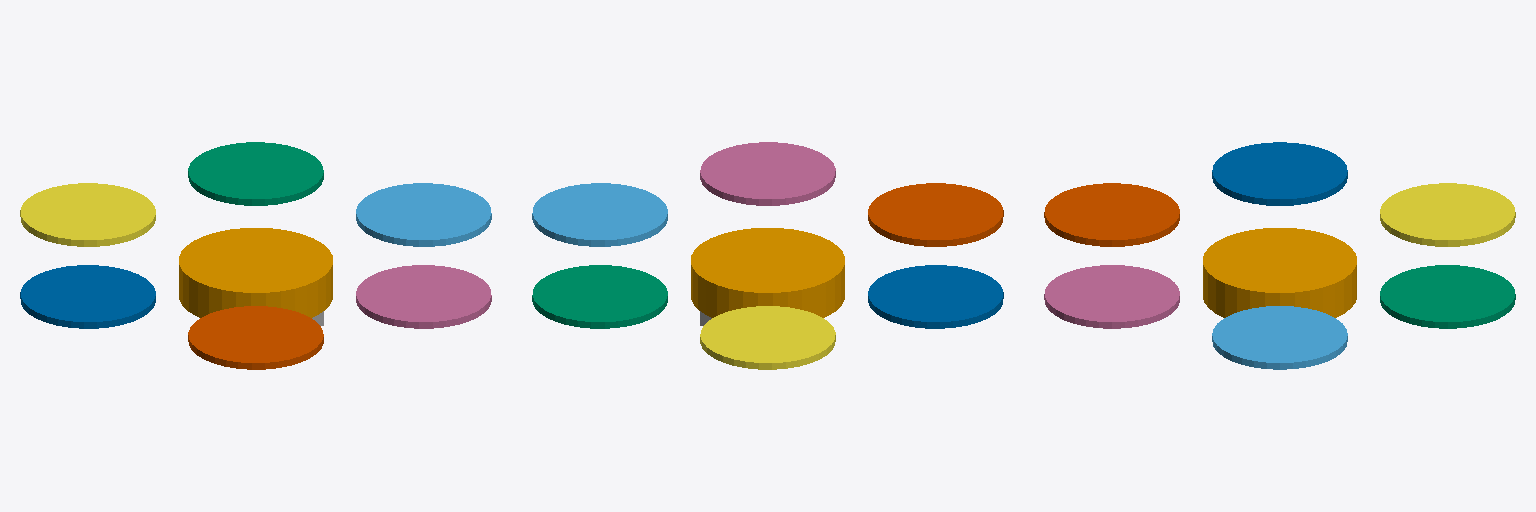
URDF robot description (autonomous_hexacopter_uav):
<?xml version="1.0"?>
<robot name="autonomous_hexacopter_uav">
  <link name="airframe_hub">
    <inertial>
      <origin xyz="0 0 0" rpy="0 0 0"/>
      <mass value="3.8"/>
      <inertia ixx="0.065" ixy="0" ixz="0" iyy="0.065" iyz="0" izz="0.110"/>
    </inertial>
    <visual><geometry><cylinder radius="0.16" length="0.08"/></geometry></visual>
    <collision><geometry><cylinder radius="0.16" length="0.08"/></geometry></collision>
  </link>

  <link name="rotor_1">
    <inertial><mass value="0.18"/><inertia ixx="0.0008" ixy="0" ixz="0" iyy="0.0008" iyz="0" izz="0.0014"/></inertial>
    <visual><geometry><cylinder radius="0.14" length="0.015"/></geometry></visual>
    <collision><geometry><cylinder radius="0.14" length="0.015"/></geometry></collision>
  </link>

  <link name="rotor_2">
    <inertial><mass value="0.18"/><inertia ixx="0.0008" ixy="0" ixz="0" iyy="0.0008" iyz="0" izz="0.0014"/></inertial>
    <visual><geometry><cylinder radius="0.14" length="0.015"/></geometry></visual>
    <collision><geometry><cylinder radius="0.14" length="0.015"/></geometry></collision>
  </link>

  <link name="rotor_3">
    <inertial><mass value="0.18"/><inertia ixx="0.0008" ixy="0" ixz="0" iyy="0.0008" iyz="0" izz="0.0014"/></inertial>
    <visual><geometry><cylinder radius="0.14" length="0.015"/></geometry></visual>
    <collision><geometry><cylinder radius="0.14" length="0.015"/></geometry></collision>
  </link>

  <link name="rotor_4">
    <inertial><mass value="0.18"/><inertia ixx="0.0008" ixy="0" ixz="0" iyy="0.0008" iyz="0" izz="0.0014"/></inertial>
    <visual><geometry><cylinder radius="0.14" length="0.015"/></geometry></visual>
    <collision><geometry><cylinder radius="0.14" length="0.015"/></geometry></collision>
  </link>

  <link name="rotor_5">
    <inertial><mass value="0.18"/><inertia ixx="0.0008" ixy="0" ixz="0" iyy="0.0008" iyz="0" izz="0.0014"/></inertial>
    <visual><geometry><cylinder radius="0.14" length="0.015"/></geometry></visual>
    <collision><geometry><cylinder radius="0.14" length="0.015"/></geometry></collision>
  </link>

  <link name="rotor_6">
    <inertial><mass value="0.18"/><inertia ixx="0.0008" ixy="0" ixz="0" iyy="0.0008" iyz="0" izz="0.0014"/></inertial>
    <visual><geometry><cylinder radius="0.14" length="0.015"/></geometry></visual>
    <collision><geometry><cylinder radius="0.14" length="0.015"/></geometry></collision>
  </link>

  <link name="camera_gimbal">
    <inertial><mass value="0.45"/><inertia ixx="0.001" ixy="0" ixz="0" iyy="0.001" iyz="0" izz="0.001"/></inertial>
    <visual><geometry><box size="0.08 0.08 0.07"/></geometry></visual>
    <collision><geometry><box size="0.08 0.08 0.07"/></geometry></collision>
  </link>

  <joint name="rotor_1_joint" type="continuous">
    <parent link="airframe_hub"/><child link="rotor_1"/>
    <origin xyz="0.40 0.0 0.05" rpy="0 0 0"/><axis xyz="0 0 1"/>
  </joint>
  <joint name="rotor_2_joint" type="continuous">
    <parent link="airframe_hub"/><child link="rotor_2"/>
    <origin xyz="0.20 0.3464 0.05" rpy="0 0 0"/><axis xyz="0 0 1"/>
  </joint>
  <joint name="rotor_3_joint" type="continuous">
    <parent link="airframe_hub"/><child link="rotor_3"/>
    <origin xyz="-0.20 0.3464 0.05" rpy="0 0 0"/><axis xyz="0 0 1"/>
  </joint>
  <joint name="rotor_4_joint" type="continuous">
    <parent link="airframe_hub"/><child link="rotor_4"/>
    <origin xyz="-0.40 0.0 0.05" rpy="0 0 0"/><axis xyz="0 0 1"/>
  </joint>
  <joint name="rotor_5_joint" type="continuous">
    <parent link="airframe_hub"/><child link="rotor_5"/>
    <origin xyz="-0.20 -0.3464 0.05" rpy="0 0 0"/><axis xyz="0 0 1"/>
  </joint>
  <joint name="rotor_6_joint" type="continuous">
    <parent link="airframe_hub"/><child link="rotor_6"/>
    <origin xyz="0.20 -0.3464 0.05" rpy="0 0 0"/><axis xyz="0 0 1"/>
  </joint>
  <joint name="gimbal_pitch_joint" type="revolute">
    <parent link="airframe_hub"/><child link="camera_gimbal"/>
    <origin xyz="0.10 0.0 -0.09" rpy="0 0 0"/><axis xyz="0 1 0"/>
    <limit lower="-1.5708" upper="0.5236" effort="2.0" velocity="3.0"/>
  </joint>
</robot>

--- Render facts (derived) ---
3 views of the same robot in one strip: view 1: azimuth 30°, elevation 25°; view 2: azimuth 150°, elevation 25°; view 3: azimuth 270°, elevation 25° (orthographic).
Model autonomous_hexacopter_uav with 8 links and 7 joints (1 revolute, 6 continuous), rooted at airframe_hub, posed all joints at 0.
Links seen in each view (by area): view 1: airframe_hub, rotor_1, rotor_4, rotor_3, rotor_6, rotor_2, rotor_5; view 2: airframe_hub, rotor_1, rotor_4, rotor_2, rotor_5, rotor_3, rotor_6; view 3: airframe_hub, rotor_1, rotor_4, rotor_2, rotor_3, rotor_5, rotor_6.
Link boxes in pixels (bbox=[...]): airframe_hub: bbox=[179, 228, 332, 317]; rotor_1: bbox=[356, 183, 491, 246]; rotor_4: bbox=[20, 265, 155, 328]; rotor_3: bbox=[20, 183, 155, 246]; rotor_6: bbox=[356, 265, 491, 328]; rotor_2: bbox=[188, 142, 323, 205]; rotor_5: bbox=[188, 306, 323, 369]; airframe_hub: bbox=[691, 228, 844, 317]; rotor_1: bbox=[532, 183, 667, 246]; rotor_4: bbox=[868, 265, 1003, 328]; rotor_2: bbox=[532, 265, 667, 328]; rotor_5: bbox=[868, 183, 1003, 246]; rotor_3: bbox=[700, 306, 835, 369]; rotor_6: bbox=[700, 142, 835, 205]; airframe_hub: bbox=[1203, 228, 1356, 317]; rotor_1: bbox=[1212, 306, 1347, 369]; rotor_4: bbox=[1212, 142, 1347, 205]; rotor_2: bbox=[1380, 265, 1515, 328]; rotor_3: bbox=[1380, 183, 1515, 246]; rotor_5: bbox=[1044, 183, 1179, 246]; rotor_6: bbox=[1044, 265, 1179, 328].
Bounding box of the posed robot: 1.08 × 0.9728 × 0.1825 m (x, y, z).
Geometry: primitives only (box / cylinder / sphere), no mesh files.
